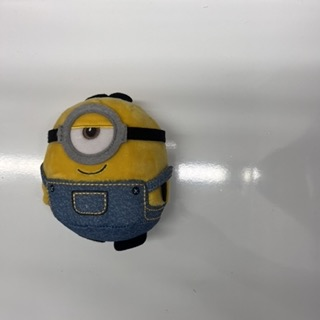minion: (39, 93, 173, 252)
